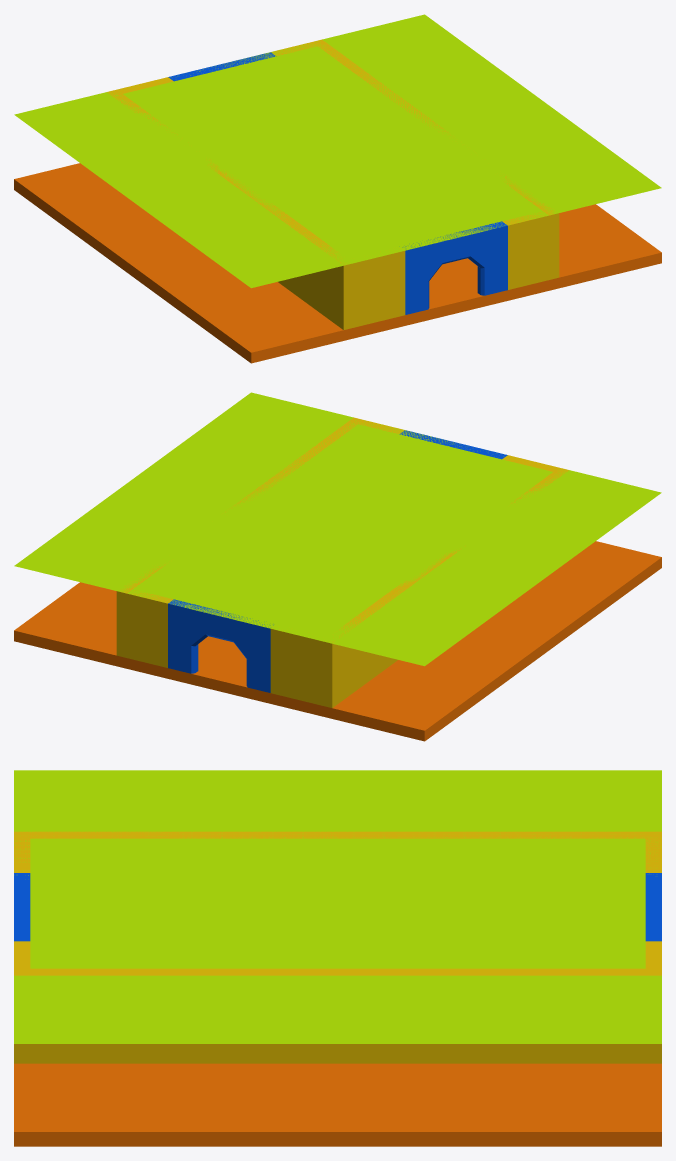
Rendered from I_Corridor.fbx.
3 views of the same model, one above another, from view 1: azimuth 30°, elevation 25°; view 2: azimuth 150°, elevation 25°; view 3: azimuth 270°, elevation 25° (orthographic). The views are drawn at different scales.
Parts seen in each view (by area): view 1: Roof, Floor, Door_02, Wall_Module_20, Wall_Module_19, Wall_Module_01, Wall_Module_02, Wall_Module_18, Door_01; view 2: Roof, Floor, Door_01, Wall_Module_10, Wall_Module_09, Wall_Module_08, Wall_Module_05, Door_02; view 3: Roof, Floor, Wall_Module_12, Wall_Module_13, Wall_Module_14, Wall_Module_15, Wall_Module_16, Wall_Module_17, Wall_Module_18, Wall_Module_11, Door_01, Door_02 (+12 smaller).
Part boxes in pixels (x1,y1,x2,y2): Roof: (14, 14, 661, 288); Floor: (14, 163, 661, 363); Door_02: (402, 221, 507, 314); Wall_Module_20: (354, 248, 405, 327); Wall_Module_19: (502, 212, 559, 289); Wall_Module_01: (314, 241, 353, 329); Wall_Module_02: (284, 220, 323, 308); Wall_Module_18: (520, 193, 559, 279); Door_01: (168, 52, 276, 81); Roof: (14, 392, 661, 666); Floor: (14, 541, 661, 741); Door_01: (168, 599, 273, 692); Wall_Module_10: (116, 589, 173, 667); Wall_Module_09: (270, 625, 321, 705); Wall_Module_08: (322, 619, 361, 707); Wall_Module_05: (352, 598, 391, 686); Door_02: (399, 430, 507, 459); Roof: (14, 770, 661, 1043); Floor: (14, 1063, 661, 1146); Wall_Module_12: (500, 968, 580, 1063); Wall_Module_13: (419, 968, 499, 1063); Wall_Module_14: (338, 968, 418, 1063); Wall_Module_15: (257, 968, 337, 1063); Wall_Module_16: (176, 968, 256, 1063); Wall_Module_17: (95, 968, 175, 1063); Wall_Module_18: (14, 968, 94, 1063); Wall_Module_11: (581, 968, 661, 1063); Door_01: (645, 873, 661, 941); Door_02: (14, 873, 30, 941).
Size of the model in its own units: 4000 by 700 by 4000.
